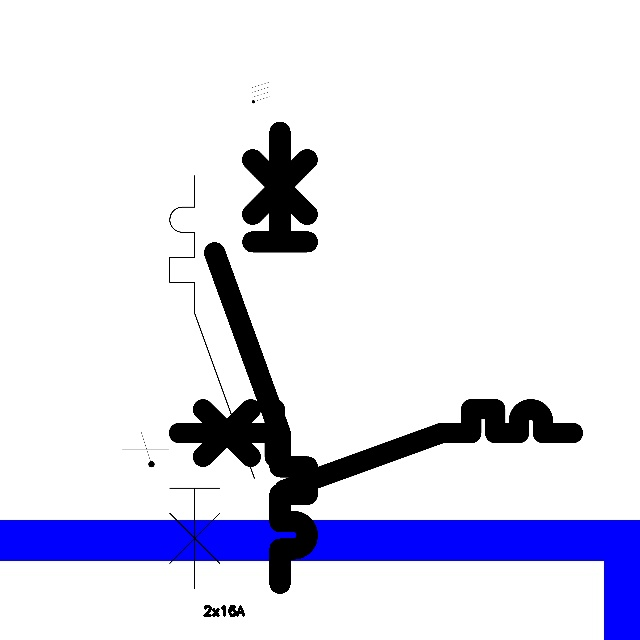interruptor_termomagnetico: (203, 120, 319, 595), (159, 165, 265, 599), (168, 399, 582, 500)
